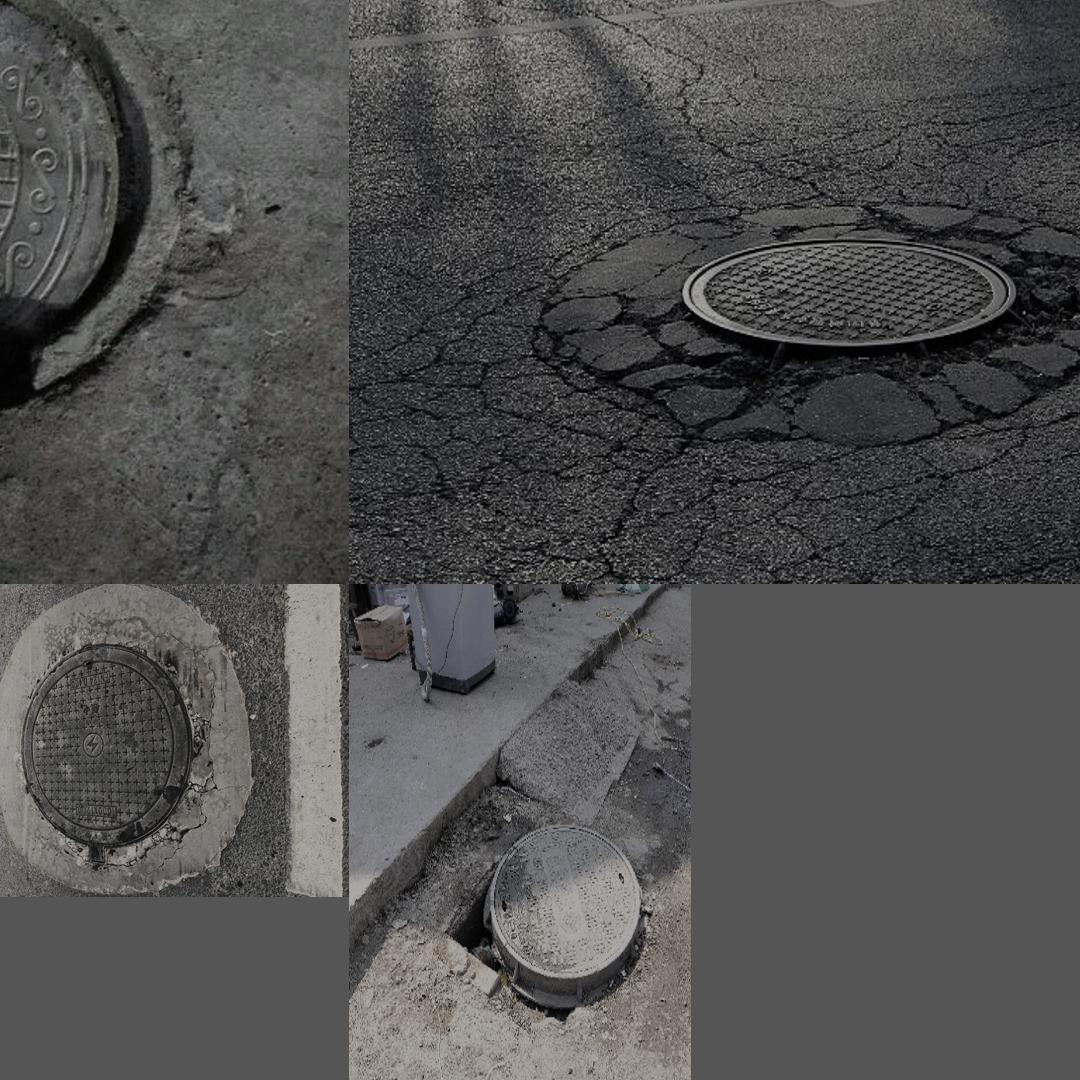circle: (527, 172, 1080, 474), (0, 0, 209, 440), (0, 592, 251, 890), (460, 812, 649, 1015)
